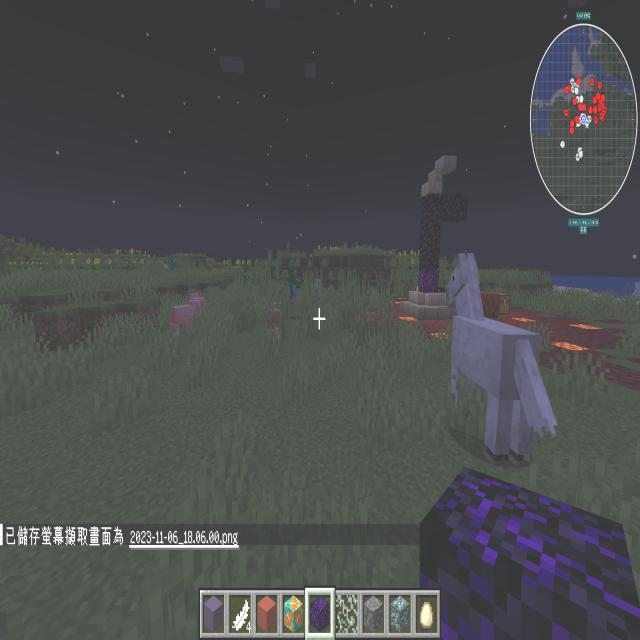Creeper: (308, 277, 322, 312)
Skeleton: (343, 241, 348, 253)
Spider: (532, 267, 544, 281)
Zombie: (287, 265, 303, 312), (166, 252, 178, 274), (242, 264, 252, 290)
pig: (168, 298, 205, 340), (262, 300, 284, 346), (188, 292, 208, 316)
